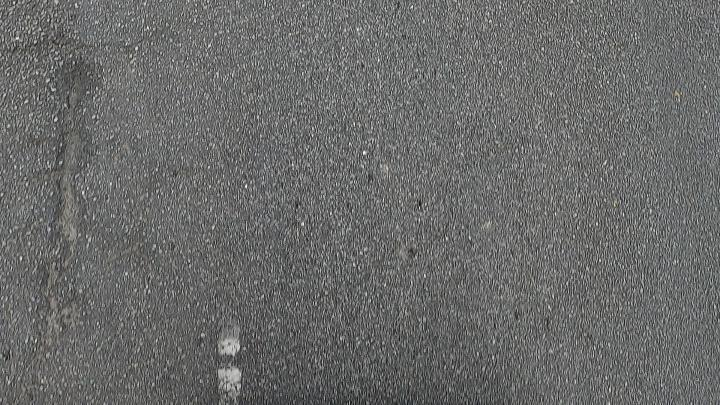Crack: (37, 59, 97, 351), (45, 61, 92, 347)
